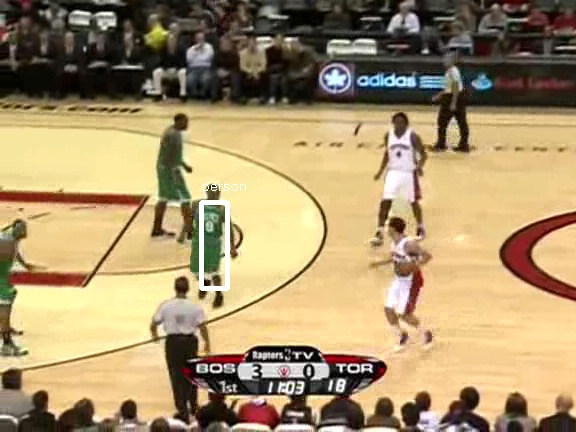person: (193, 198, 227, 279), (192, 198, 226, 279), (194, 198, 228, 279), (193, 197, 227, 278), (193, 199, 227, 280)
target_negative: (52, 84, 403, 272), (190, 252, 483, 371), (176, 35, 278, 303), (155, 90, 537, 148), (80, 219, 354, 245), (413, 90, 456, 228)
